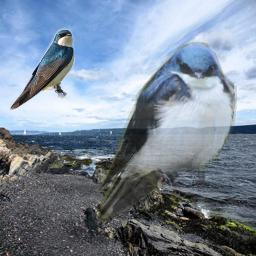Swallow: (91, 41, 237, 223), (7, 26, 78, 111)
